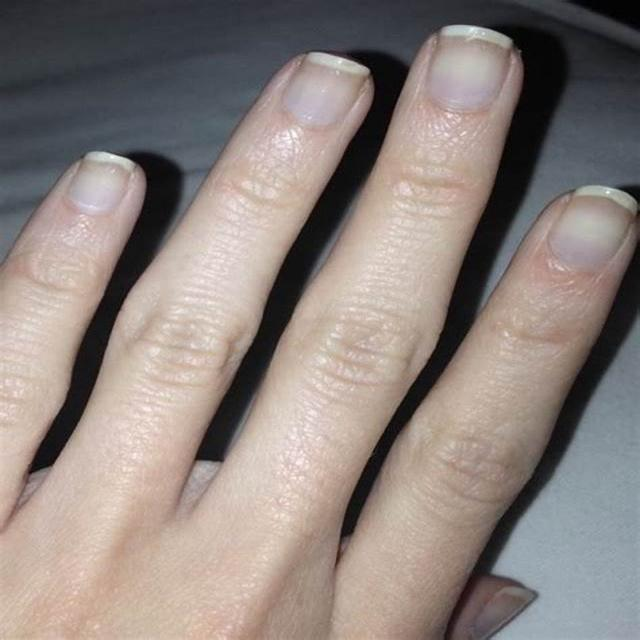Fingernail: (550, 186, 636, 273), (428, 26, 511, 110), (283, 53, 368, 127), (69, 151, 133, 212), (475, 587, 537, 638)
